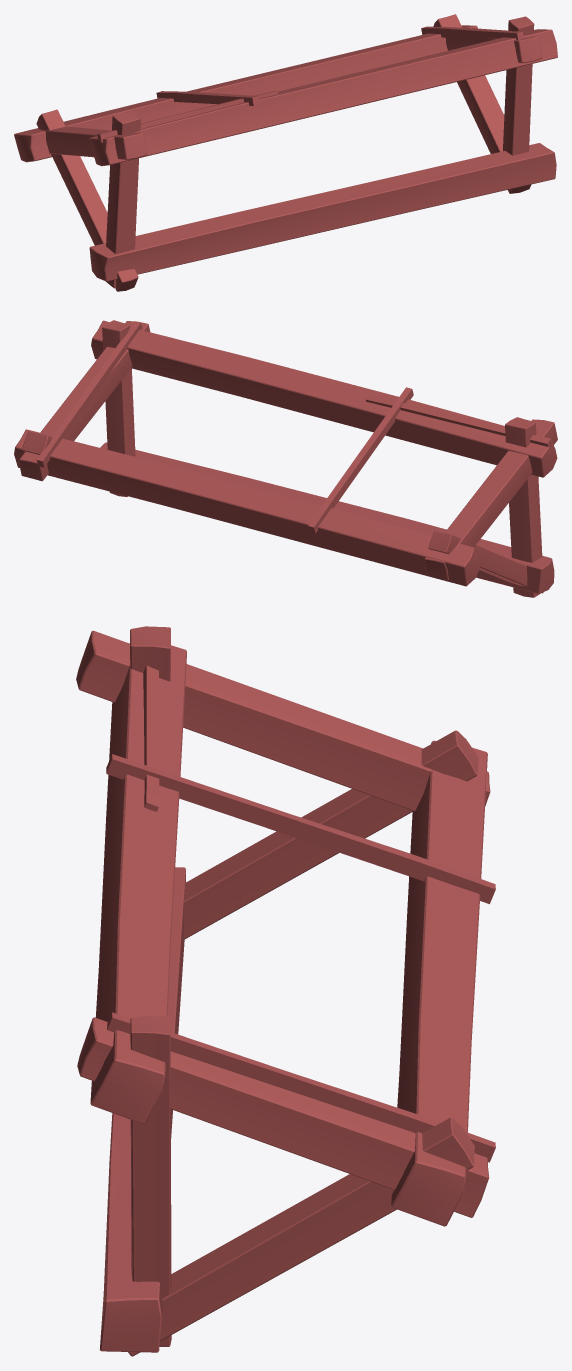
File: Beam_Structure_10A_Lod0.fbx
3 renders of one model, top to bottom at view 1: azimuth 30°, elevation 25°; view 2: azimuth 150°, elevation 25°; view 3: azimuth 270°, elevation 25°, orthographic. The views are drawn at different scales.
Parts seen in each view (by area): view 1: Beam_Structure_10A_Lod0; view 2: Beam_Structure_10A_Lod0; view 3: Beam_Structure_10A_Lod0.
Part boxes in pixels (<box>): Beam_Structure_10A_Lod0: <box>14,14,557,291</box>; Beam_Structure_10A_Lod0: <box>14,320,557,597</box>; Beam_Structure_10A_Lod0: <box>76,626,495,1356</box>.
Size of the model in its own units: 320 by 115 by 130.
